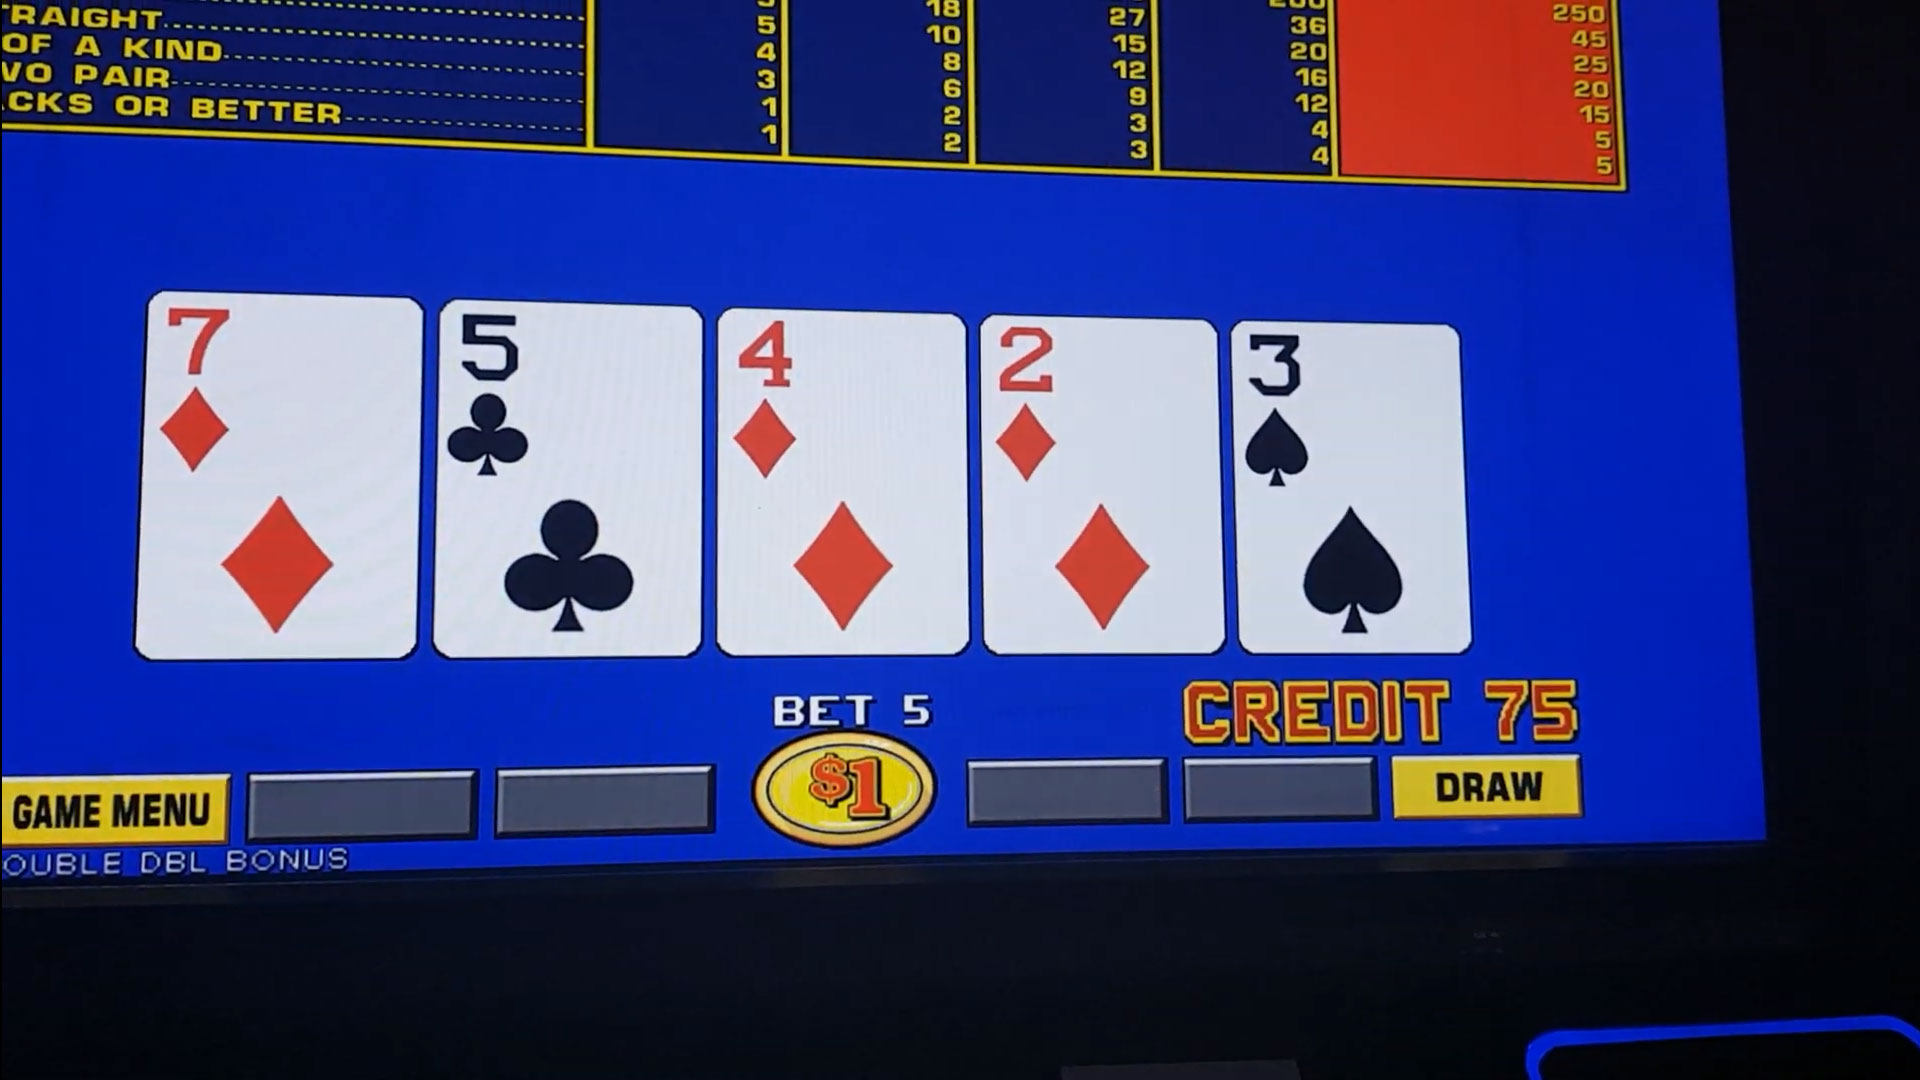C5: (448, 311, 690, 491)
D2: (988, 320, 1212, 495)
D4: (732, 319, 963, 491)
D7: (165, 307, 415, 484)
S3: (1240, 324, 1453, 492)
